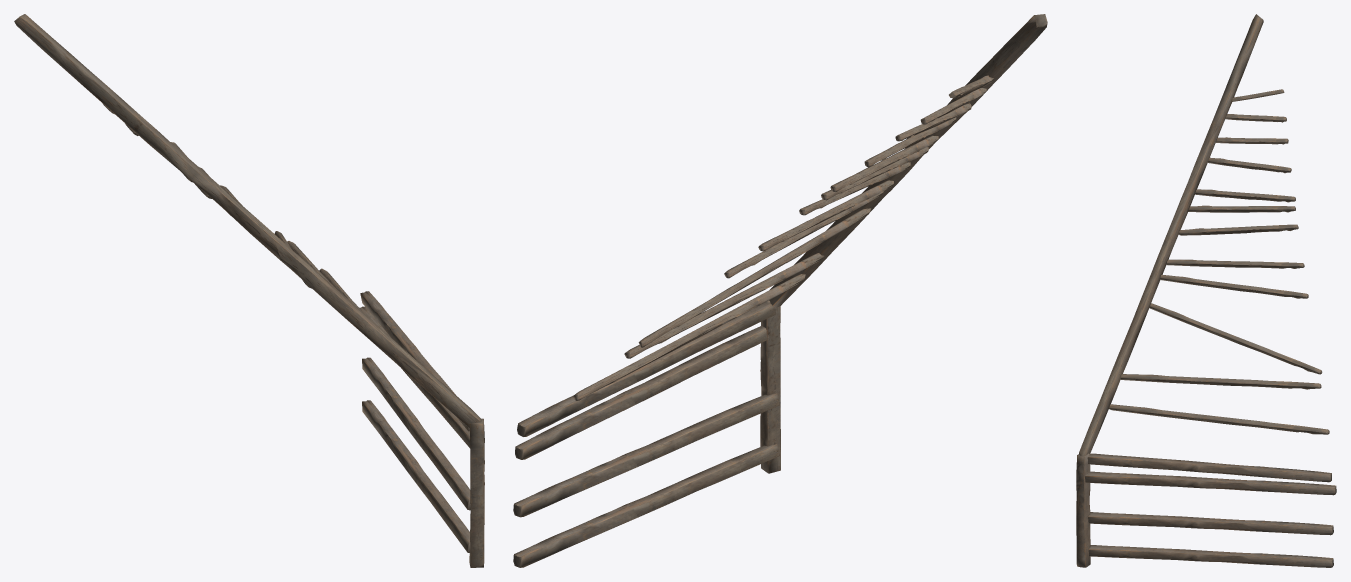
Rendered from Tent_P_WoodenStand02.FBX.
The picture shows the model from 3 angles, left to right: view 1: azimuth 30°, elevation 25°; view 2: azimuth 150°, elevation 25°; view 3: azimuth 270°, elevation 25°; orthographic projection. The views are drawn at different scales.
Visible parts, largest first — view 1: Tent_P_WoodenStand02; view 2: Tent_P_WoodenStand02; view 3: Tent_P_WoodenStand02.
Part boxes in pixels (box(x1,y1,x2,y2)): Tent_P_WoodenStand02: box(14, 14, 484, 567); Tent_P_WoodenStand02: box(513, 14, 1047, 567); Tent_P_WoodenStand02: box(1076, 14, 1336, 567).
Size of the model in its own units: 1325 by 1728 by 965.
